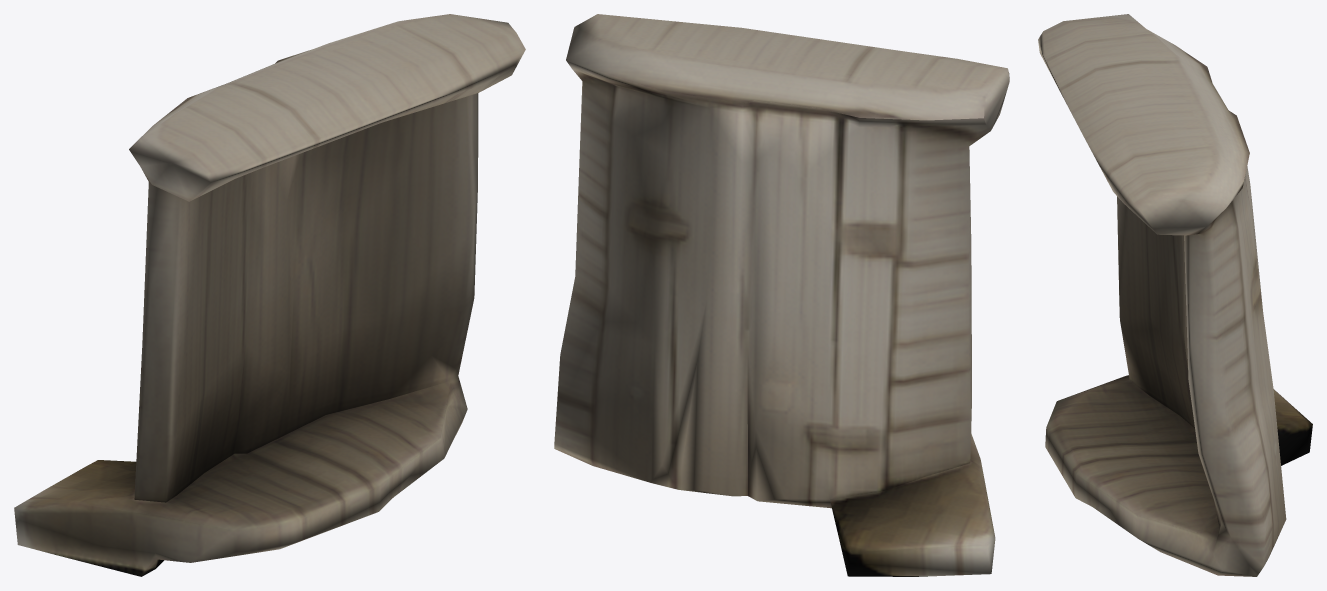
The model's file is door.obj.
3 renders of one model, left to right at view 1: azimuth 30°, elevation 25°; view 2: azimuth 150°, elevation 25°; view 3: azimuth 270°, elevation 25°, orthographic. The views are drawn at different scales.
Visible parts, largest first — view 1: Doorgeom1; view 2: Doorgeom1; view 3: Doorgeom1.
Part boxes in pixels (x1=…): Doorgeom1: x1=14, y1=14, x2=525, y2=576; Doorgeom1: x1=554, y1=14, x2=1009, y2=576; Doorgeom1: x1=1038, y1=14, x2=1312, y2=576.
Bounding box in the file's own units: 4.75 × 4.48 × 2.57.
Materials: 1 (1 with a texture image).
